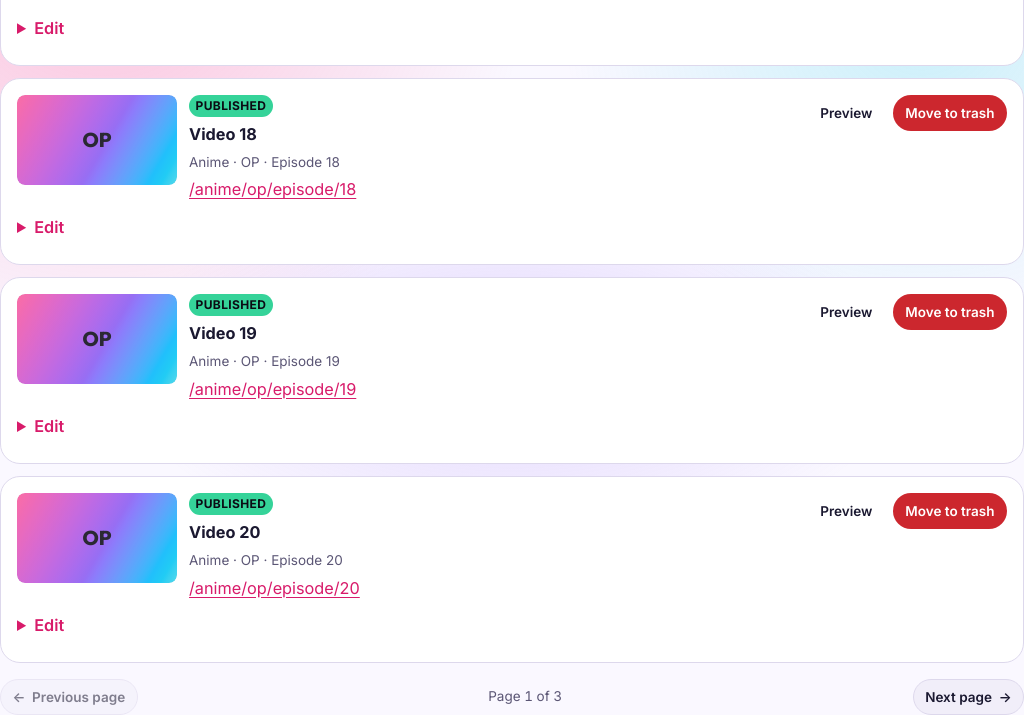
Test case: admin lists — pagination › pages with Previous / Next, shows 'Page x of y' and 'N results', and moves focus to the list heading
(page scrolled)
Expected: the text "Page 1 of 3" is shown, [488,686,562,707]
Click the button "Next page →" at (968, 697), box [913,679,1023,714]
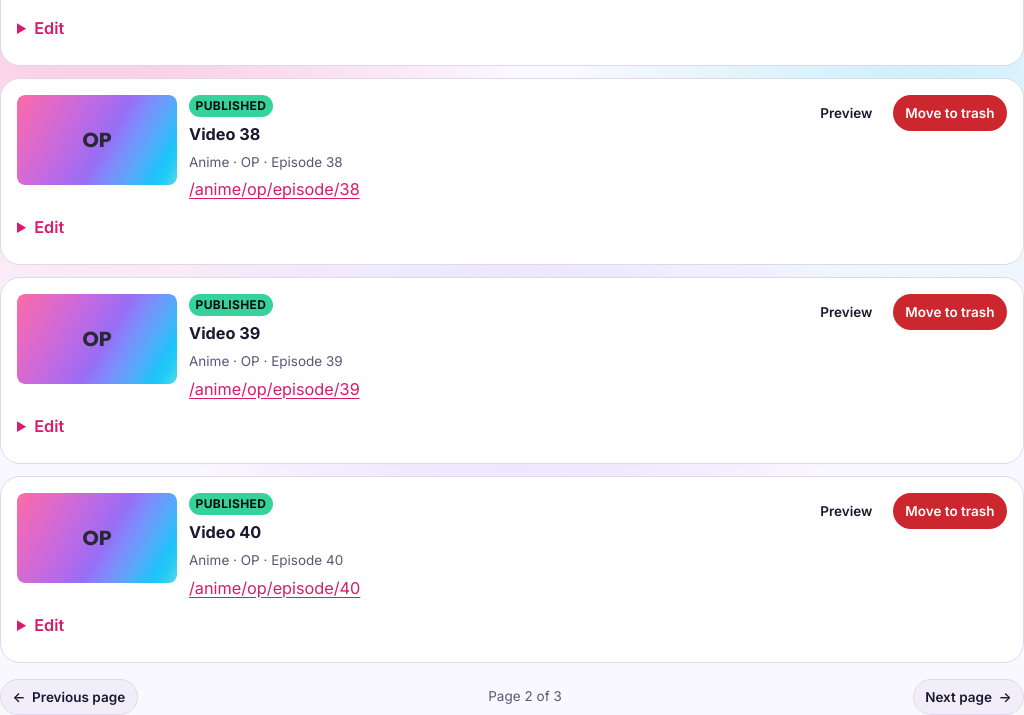
Expected: the text "Page 2 of 3" is shown, [488,686,562,707]
Click the button "Next page →" at (968, 697), box [913,679,1023,714]
(page scrolled)
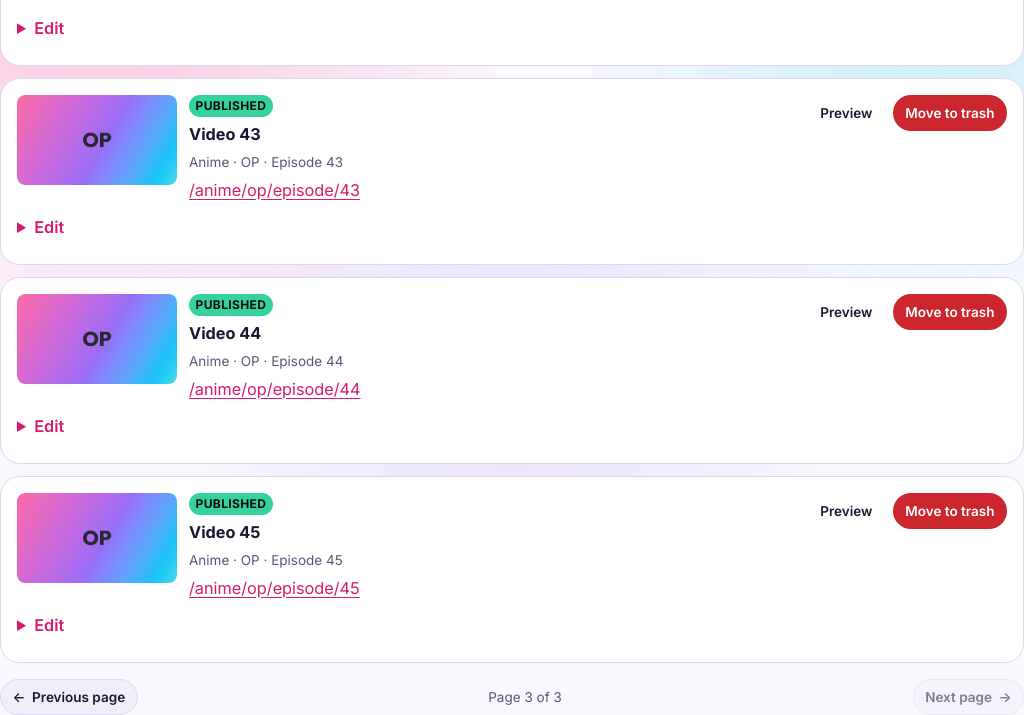
Expected: the button "Next page →" is disabled
Click the button "Next page →" at (968, 697), box [913,679,1023,714]
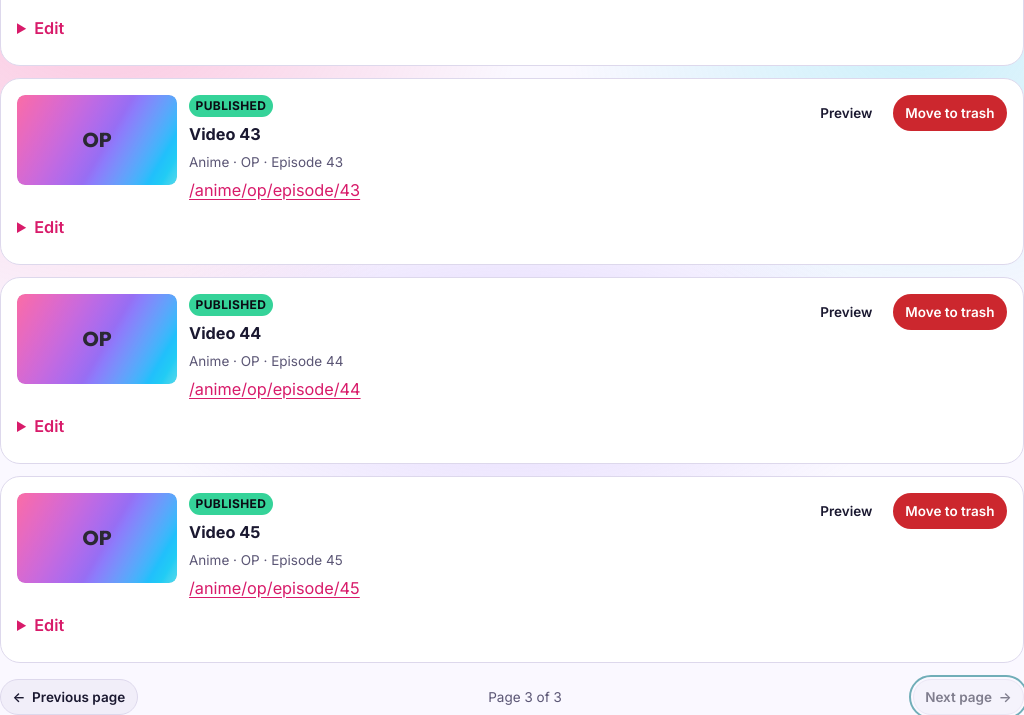
Click the button "← Previous page" at (69, 697), box [0,679,138,714]
(page scrolled)
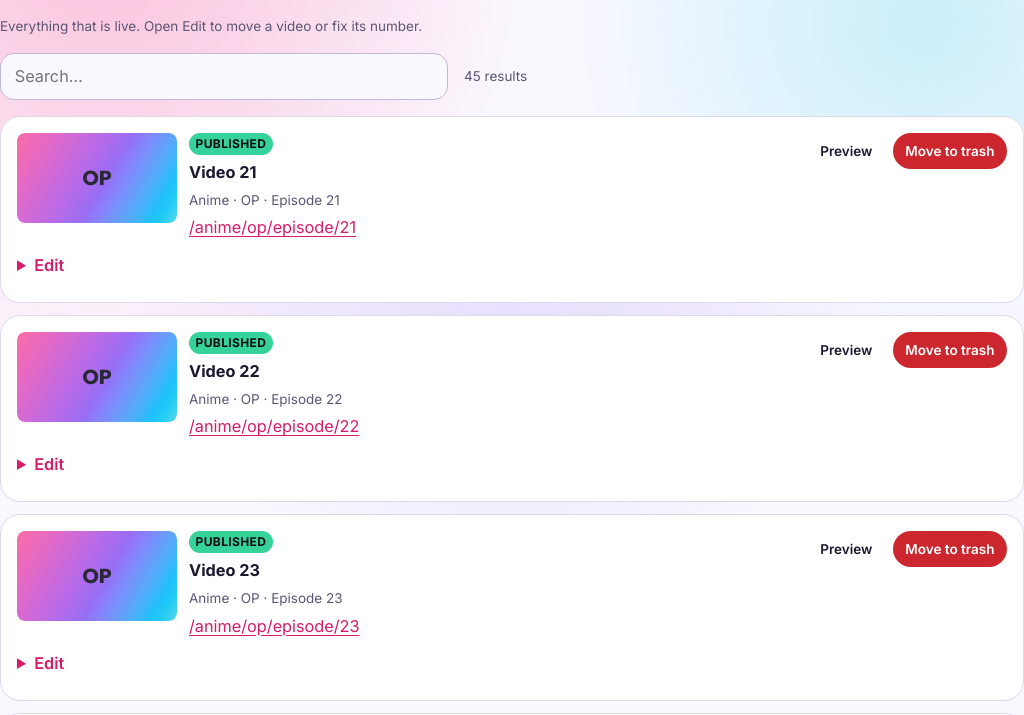
Expected: the text "Video 21" is shown, [189,162,256,182]
